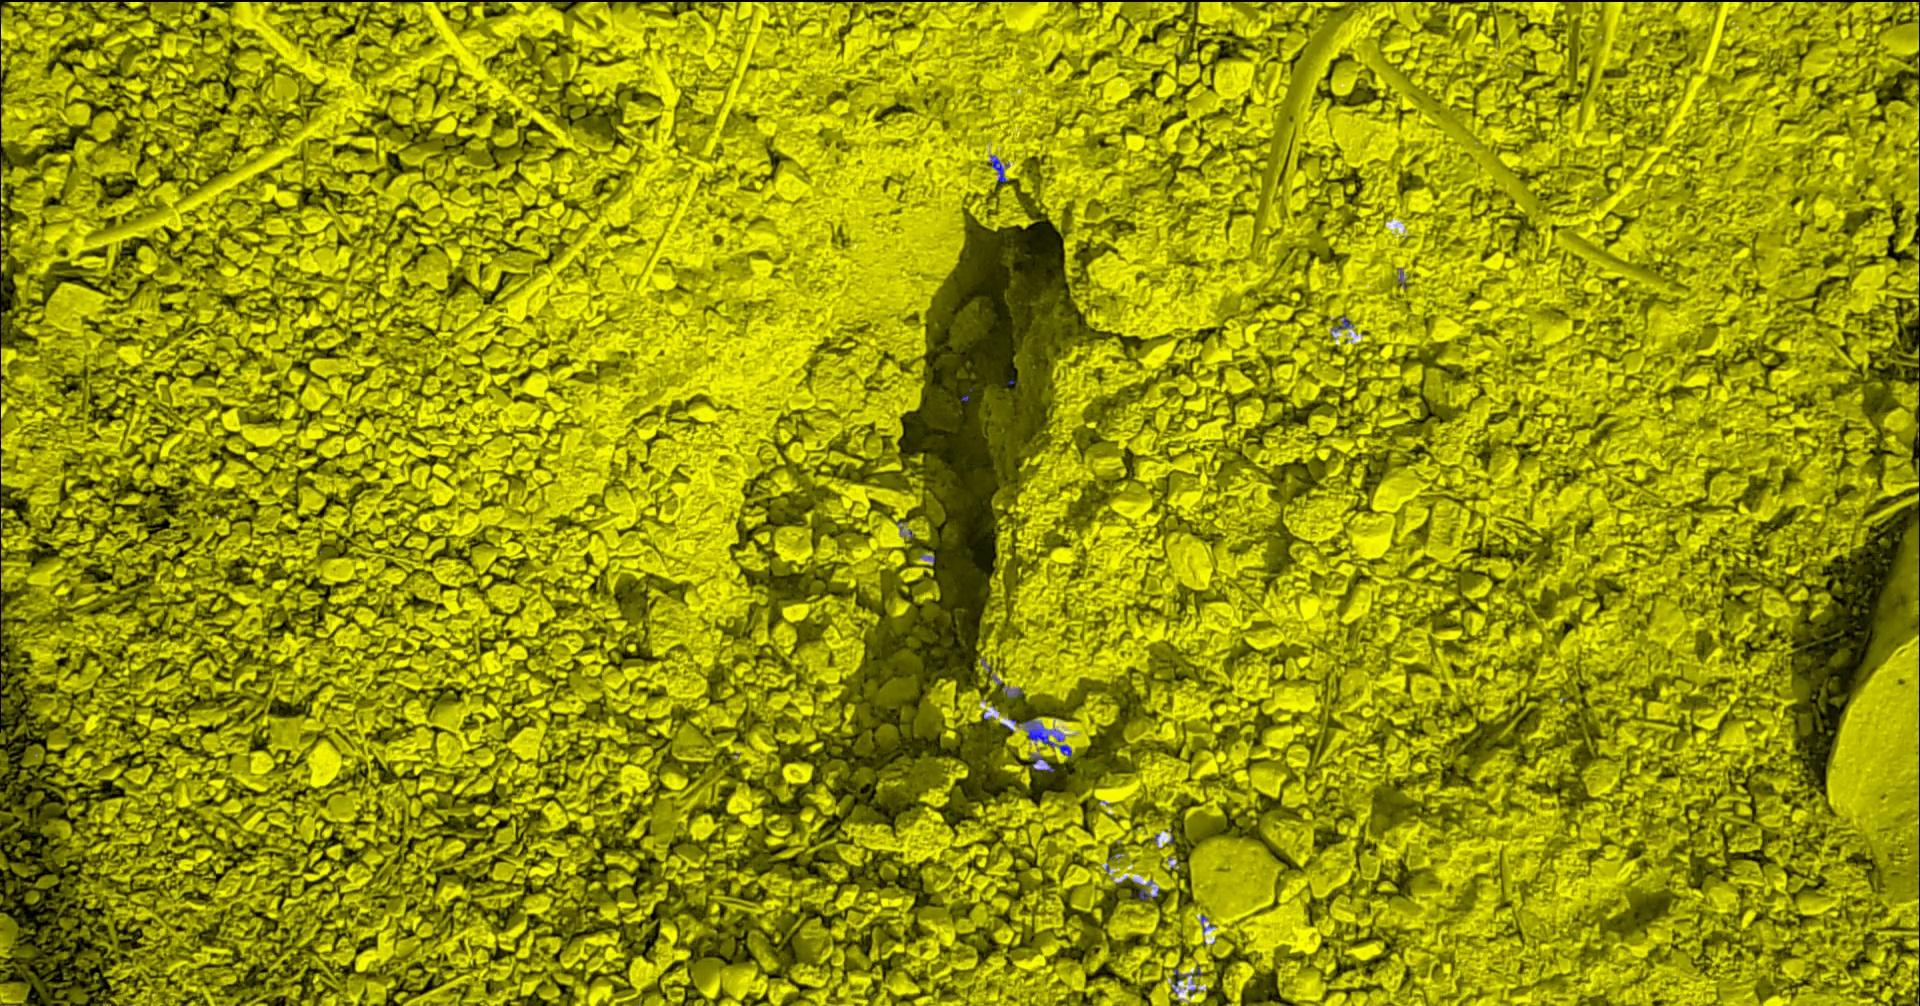ant: (1011, 718, 1073, 756), (1173, 967, 1203, 993), (992, 155, 1010, 182), (1333, 315, 1354, 332), (1133, 888, 1158, 899)
